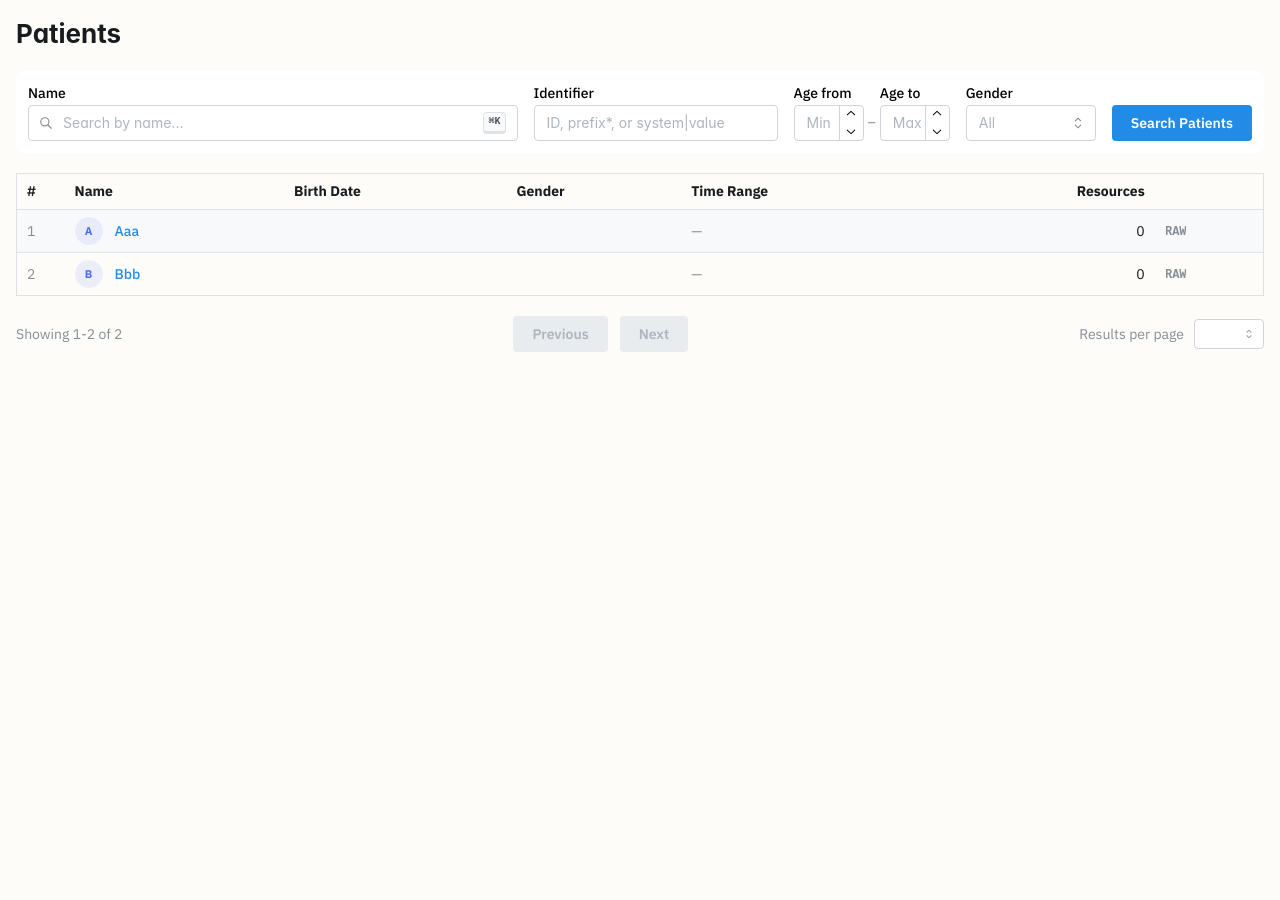
Scenario: PatientListPage J shortcut (PEEK-05) › J on focused patient row opens the drawer
Focus the row "1 A Aaa — 0 RAW" at (640, 232), box [16,210,1264,253]
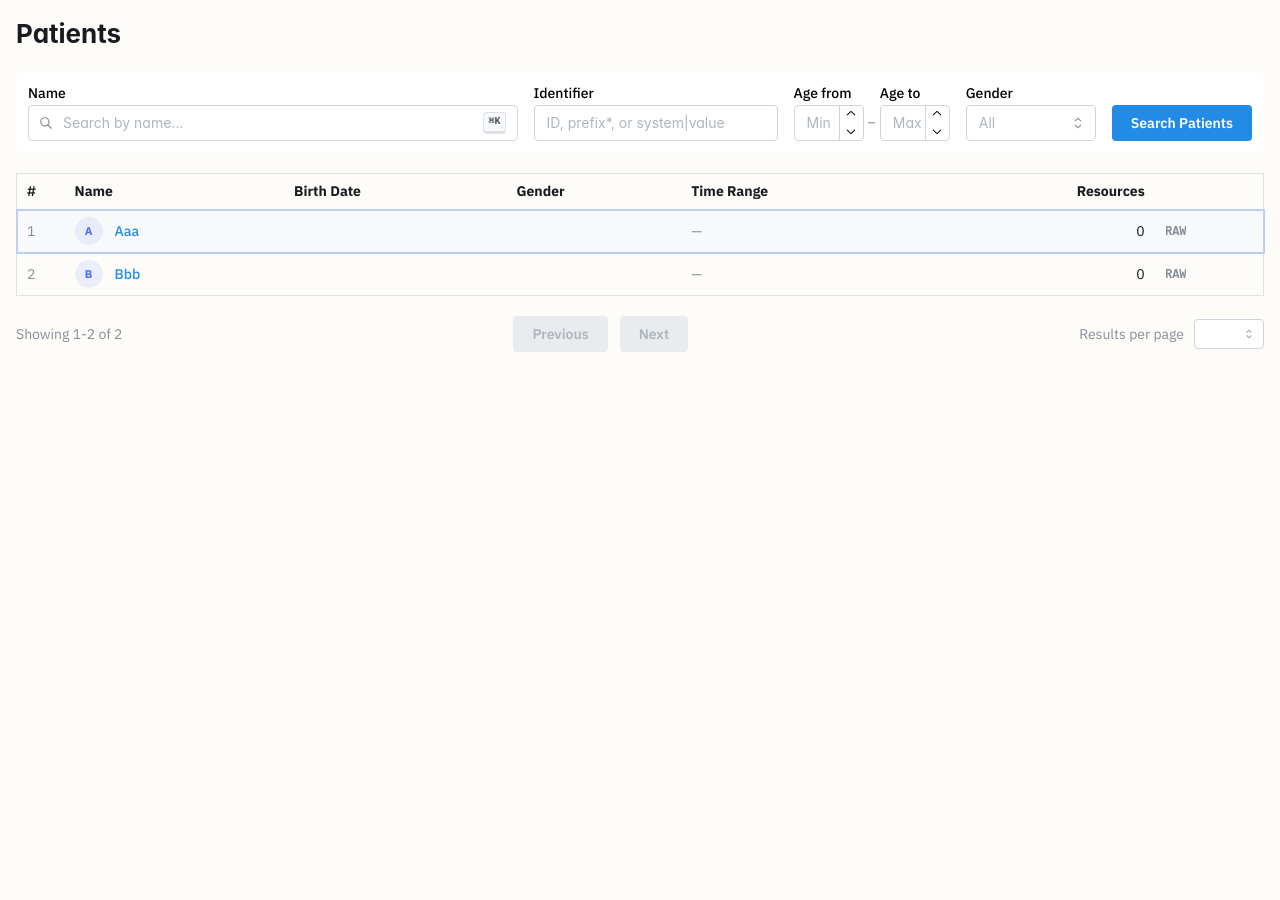
Press j
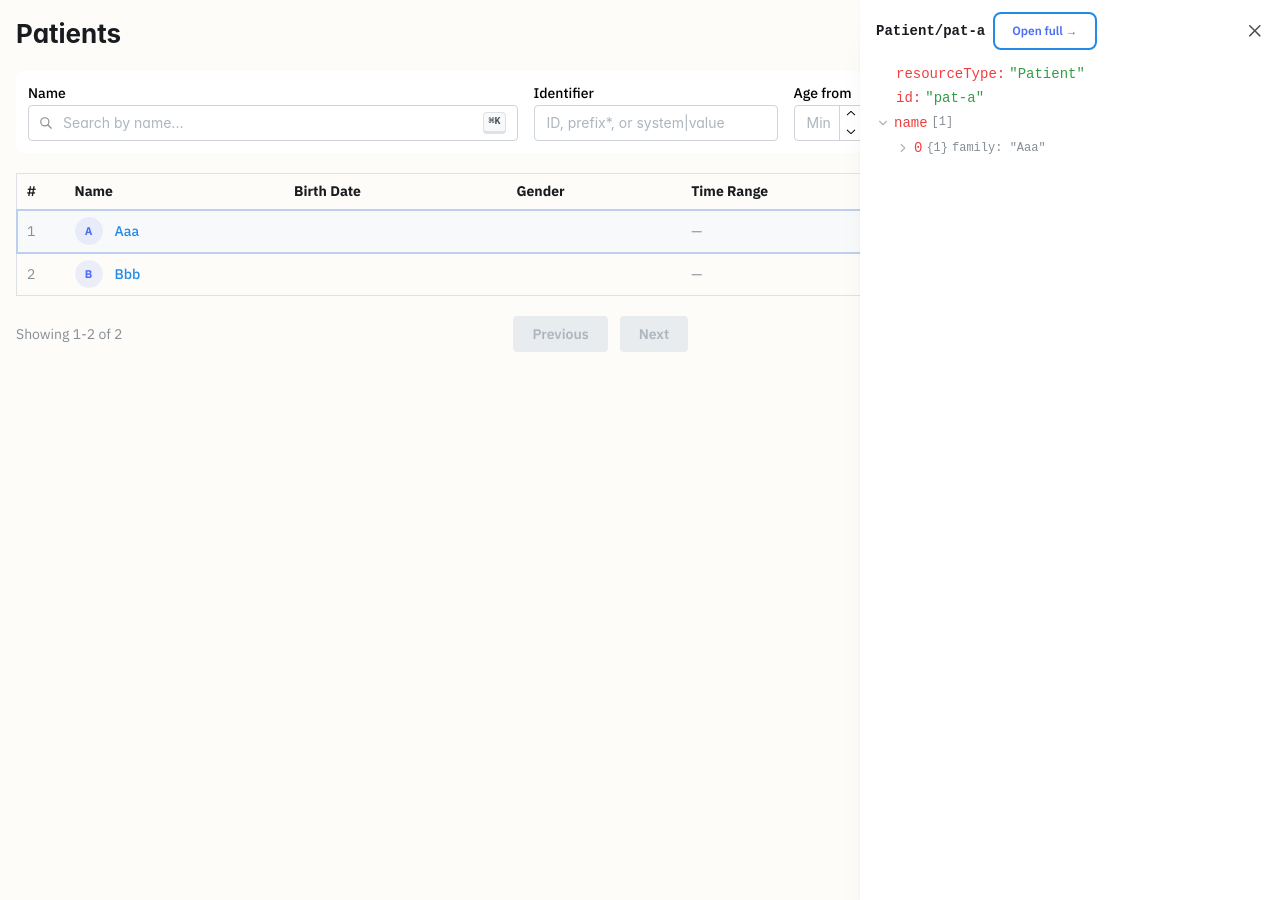
Expected: the text "Patient/pat-a" is shown, [876,21,985,41]
